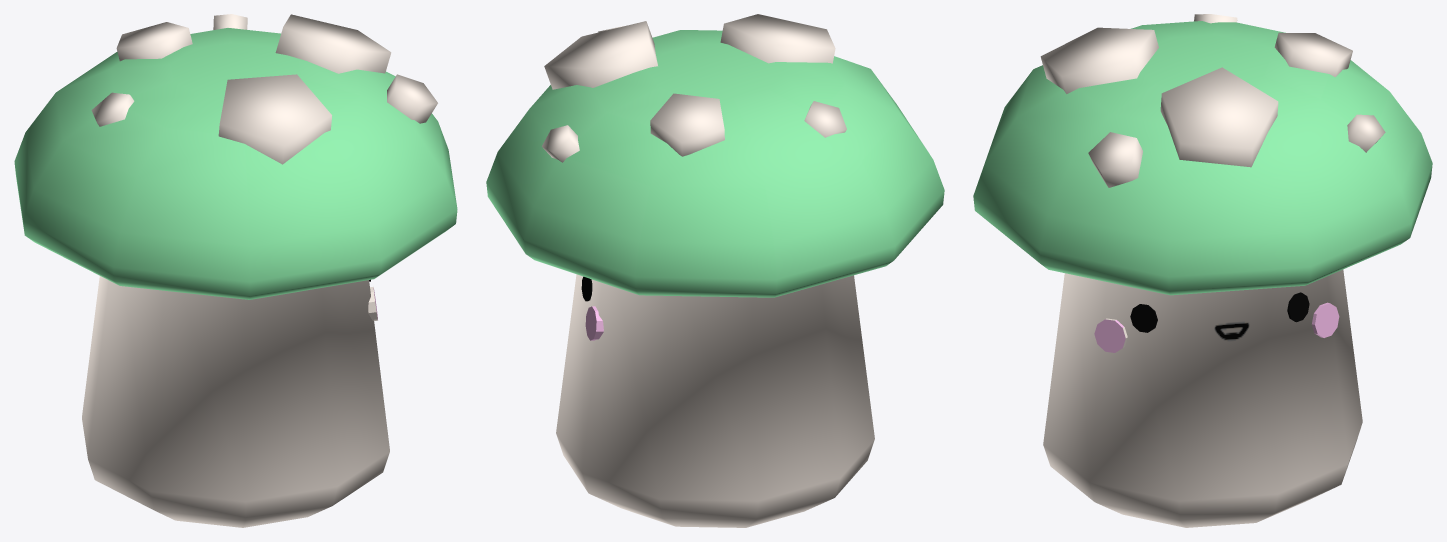
The model's file is mushroom.fbx.
3 views of the same model, side by side, from view 1: azimuth 30°, elevation 25°; view 2: azimuth 150°, elevation 25°; view 3: azimuth 270°, elevation 25° (orthographic).
Parts seen in each view (by area): view 1: Red Mushroom; view 2: Red Mushroom; view 3: Red Mushroom.
Boxes of the visible parts, <box> form: Red Mushroom: <box>14,14,457,527</box>; Red Mushroom: <box>486,14,944,527</box>; Red Mushroom: <box>973,14,1432,527</box>.
Size of the model in its own units: 30.46 by 32.15 by 30.36.
